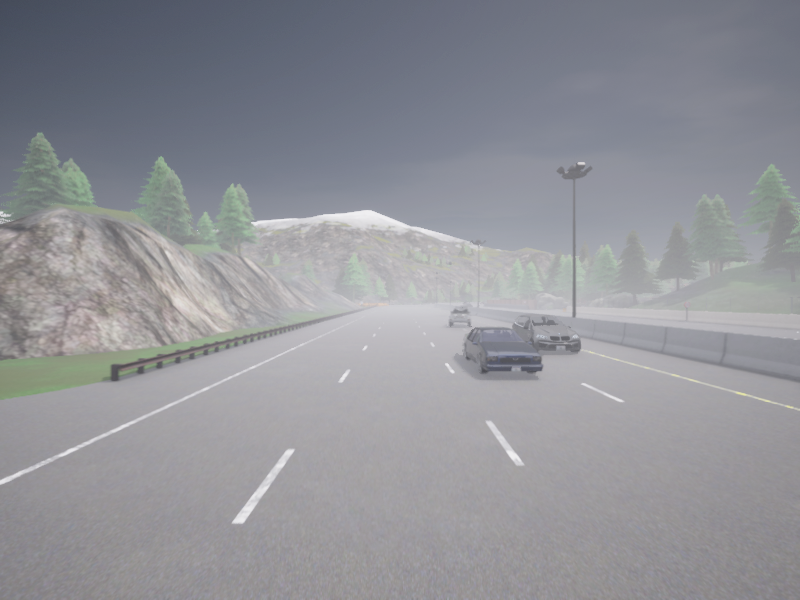vehicle: (462, 327, 543, 373), (512, 314, 580, 352), (449, 306, 471, 327), (464, 302, 471, 306), (481, 301, 486, 303), (464, 301, 467, 302)
